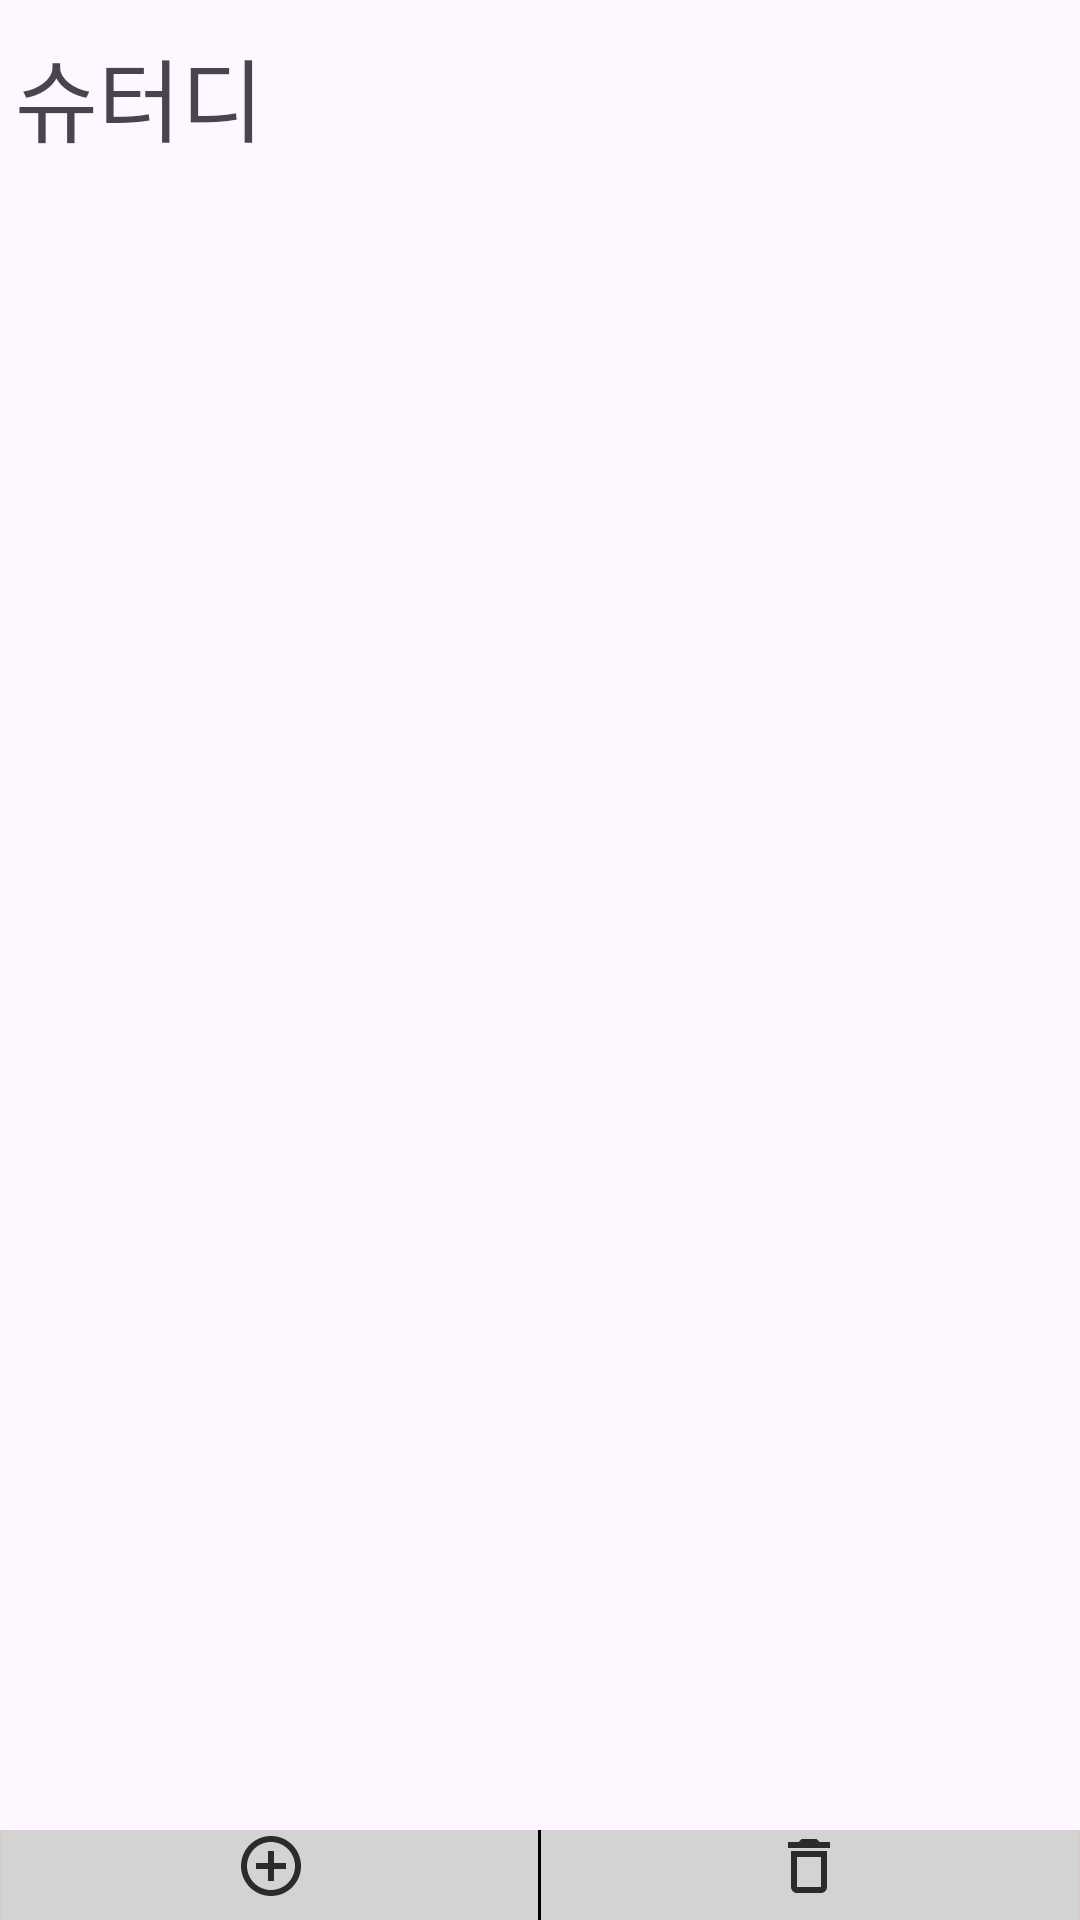

Screen size 1080x1920. Icon name, then its box in pixels as (x1, y1, x2, y2):
add circle: (241, 1836, 301, 1896)
delete: (788, 1839, 830, 1893)
